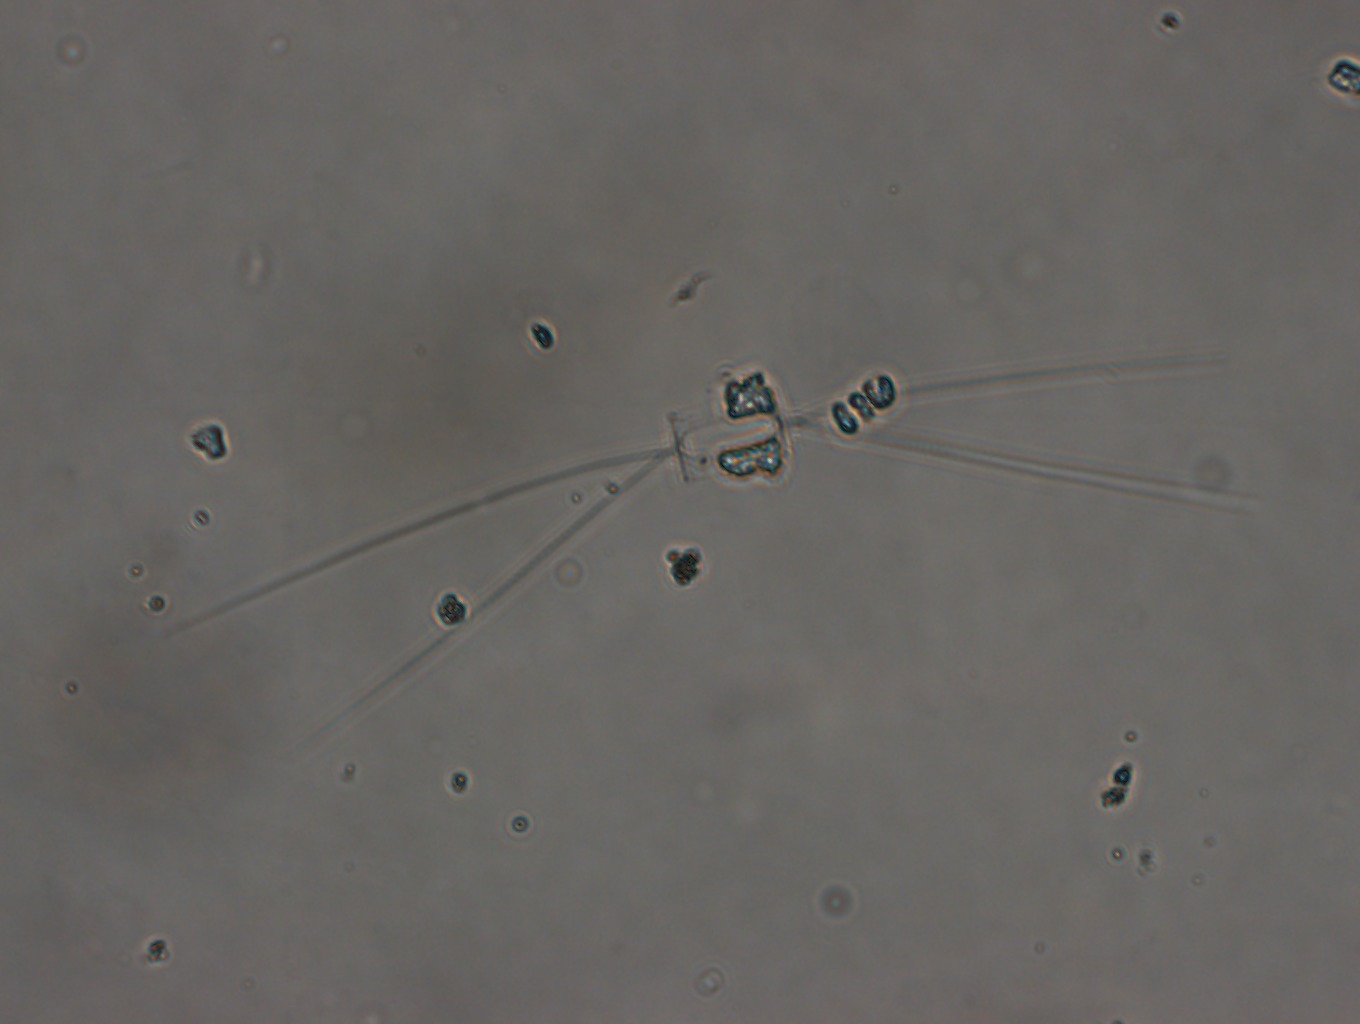chaetoceros: (197, 357, 1249, 755)
